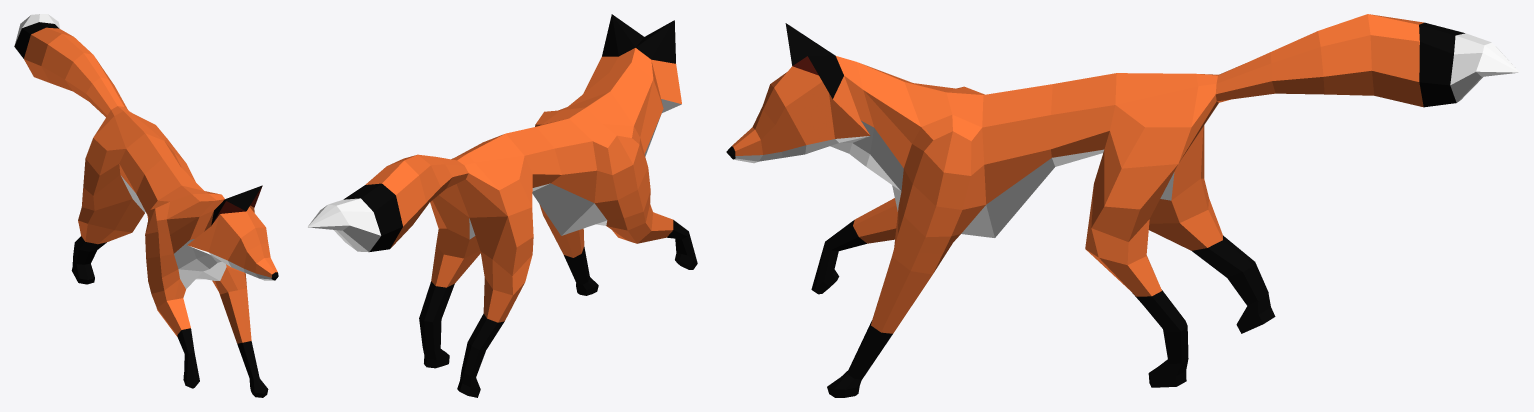
File: fox.gltf
The picture shows the model from 3 angles, left to right: view 1: azimuth 30°, elevation 25°; view 2: azimuth 150°, elevation 25°; view 3: azimuth 270°, elevation 25°; orthographic projection. The views are drawn at different scales.
Parts seen in each view (by area): view 1: Fox_by_vladhad22@gmail.com; view 2: Fox_by_vladhad22@gmail.com; view 3: Fox_by_vladhad22@gmail.com.
Part boxes in pixels (<box>): Fox_by_vladhad22@gmail.com: <box>14,14,278,397</box>; Fox_by_vladhad22@gmail.com: <box>307,14,697,397</box>; Fox_by_vladhad22@gmail.com: <box>726,14,1519,397</box>.
Size of the model in its own units: 1.32 by 2.72 by 5.4.
1 material, 1 textured.
